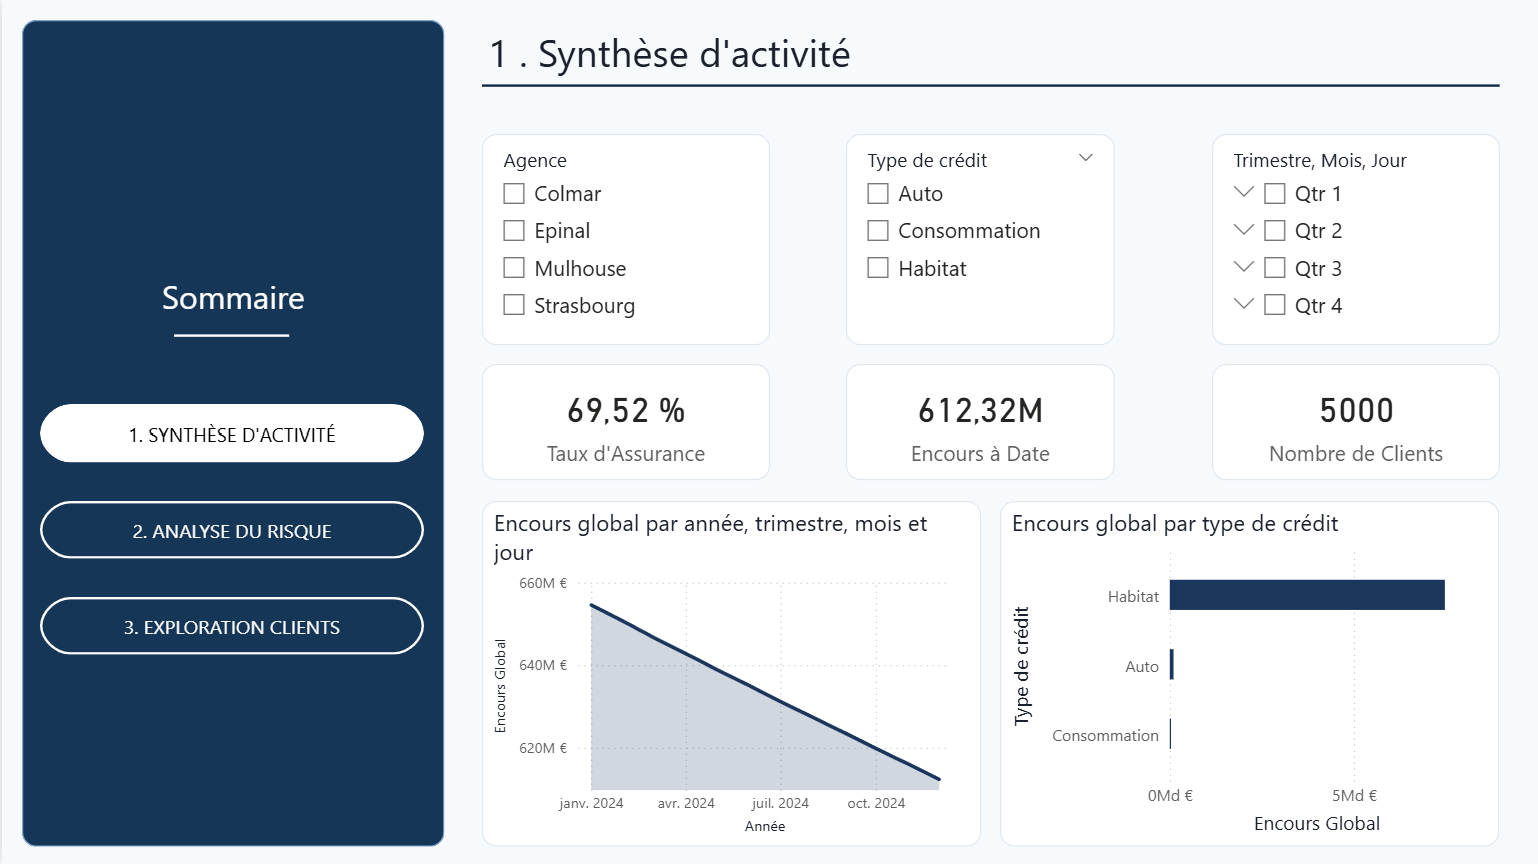

Layout of this report page (visuals, bound fields, positions):
{"tool":"powerbi","page":{"name":"1. Synthèse d'activité","canvas":[1280,720],"ordinal":1},"visuals":[{"type":"slicer","fields":{"Values":["referentiel_credits.Agence"]},"box":[400,112,240,176],"z":0},{"type":"slicer","fields":{"Values":["referentiel_credits.Type_Credit"]},"box":[704,112,224,176],"z":1000},{"type":"card","fields":{"Values":["referentiel_credits.Encours Pilotage"]},"box":[704,304,224,96],"z":2000},{"type":"card","fields":{"Values":["referentiel_credits.Nombre de Clients"]},"box":[1008,304,240,96],"z":3000},{"type":"card","fields":{"Values":["referentiel_credits.Taux d'Assurance"]},"box":[400,304,240,96],"z":4000},{"type":"lineChart","title":"Encours global par année, trimestre, mois et jour","fields":{"Y":["referentiel_credits.Encours Global"],"Category":["suivi_mensuel_credits.Date_Mois.Variation.Hiérarchie de dates.Année","suivi_mensuel_credits.Date_Mois.Variation.Hiérarchie de dates.Trimestre","suivi_mensuel_credits.Date_Mois.Variation.Hiérarchie de dates.Mois","suivi_mensuel_credits.Date_Mois.Variation.Hiérarchie de dates.Jour"]},"box":[400,416,416,288],"z":5000},{"type":"clusteredBarChart","title":"Encours global par type de crédit","fields":{"Y":["referentiel_credits.Encours Global"],"Category":["referentiel_credits.Type_Credit"]},"box":[832,416,416,288],"z":6000},{"type":"slicer","fields":{"Values":["suivi_mensuel_credits.Date_Mois.Variation.Hiérarchie de dates.Trimestre","suivi_mensuel_credits.Date_Mois.Variation.Hiérarchie de dates.Mois","suivi_mensuel_credits.Date_Mois.Variation.Hiérarchie de dates.Jour"]},"box":[1008,112,240,176],"z":7000},{"type":"shape","box":[16,16,352,688],"z":8000},{"type":"actionButton","box":[32,336,320,48],"z":9000},{"type":"actionButton","box":[32,416,320,48],"z":10000},{"type":"actionButton","box":[32,496,320,48],"z":11000},{"type":"textbox","box":[400,16,416,64],"z":12000},{"type":"shape","box":[400,64,848,16],"z":13000},{"type":"shape","box":[144,272,96,16],"z":14000},{"type":"textbox","box":[128,224,144,48],"z":15000}]}

Visuals, with their boxes in screenshot pixels (x1, y1, x2, y2), scaled from the page's 1280x720 canvas onto the 1538x864 screenshot:
slicer - referentiel_credits.Agence: (481, 134, 769, 346)
slicer - referentiel_credits.Type_Credit: (846, 134, 1115, 346)
card - referentiel_credits.Encours Pilotage: (846, 365, 1115, 480)
card - referentiel_credits.Nombre de Clients: (1211, 365, 1500, 480)
card - referentiel_credits.Taux d'Assurance: (481, 365, 769, 480)
"Encours global par année, trimestre, mois et jour" lineChart: (481, 499, 980, 845)
"Encours global par type de crédit" clusteredBarChart: (1000, 499, 1500, 845)
slicer - suivi_mensuel_credits.Date_Mois.Variation.Hiérarchie de dates.Trimestre x suivi_mensuel_credits.Date_Mois.Variation.Hiérarchie de dates.Mois: (1211, 134, 1500, 346)
shape: (19, 19, 442, 845)
actionButton: (38, 403, 423, 461)
actionButton: (38, 499, 423, 557)
actionButton: (38, 595, 423, 653)
textbox: (481, 19, 980, 96)
shape: (481, 77, 1500, 96)
shape: (173, 326, 288, 346)
textbox: (154, 269, 327, 326)
